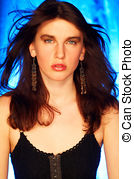face: (27, 7, 95, 87)
